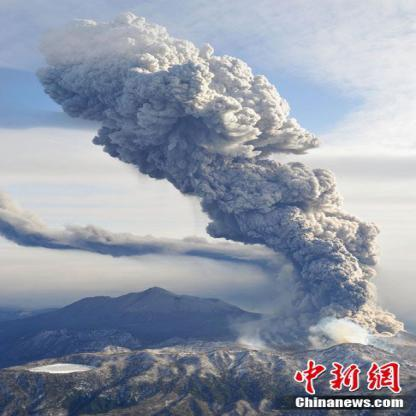smoke: (41, 11, 211, 112), (137, 162, 338, 204), (71, 110, 209, 161), (205, 204, 342, 241), (212, 53, 249, 152), (291, 271, 374, 309), (252, 72, 288, 154), (312, 308, 402, 337), (264, 242, 343, 272), (0, 192, 37, 246), (344, 210, 378, 268), (40, 223, 98, 250), (100, 228, 154, 256), (207, 242, 266, 264), (288, 116, 316, 154), (156, 236, 206, 254)
